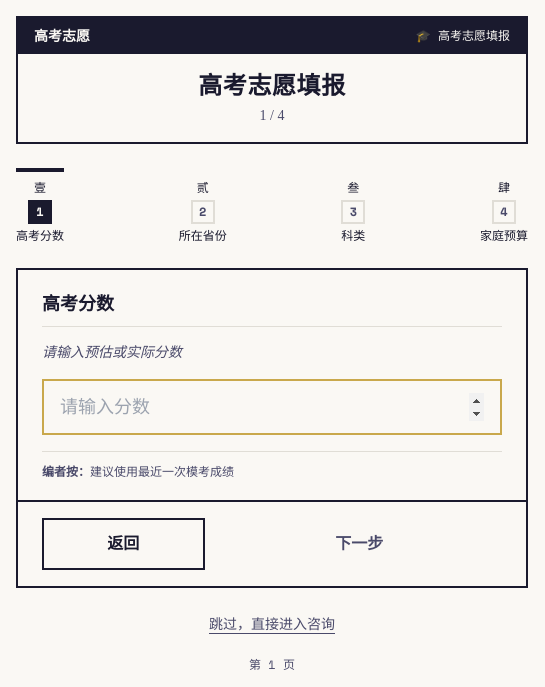
SoulQuestionForm › navigates back to previous step
Note: Go to step 2
Type "600" into the number field labelled "高考分数" at [272, 407], box [42, 379, 502, 435]
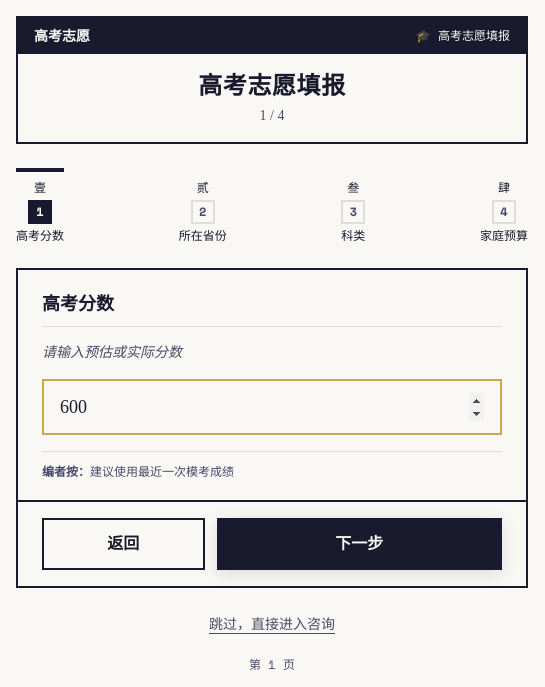
Click the button "下一步" at [359, 544], box [217, 518, 502, 570]
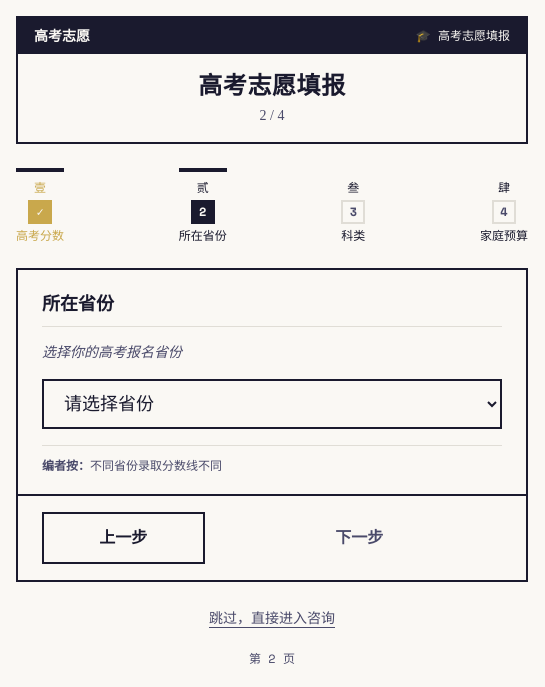
Check: the dropdown named "所在省份" is shown, box [42, 379, 502, 429]
Note:  Go back
Click the button "上一步" at [123, 538], box [42, 512, 205, 564]
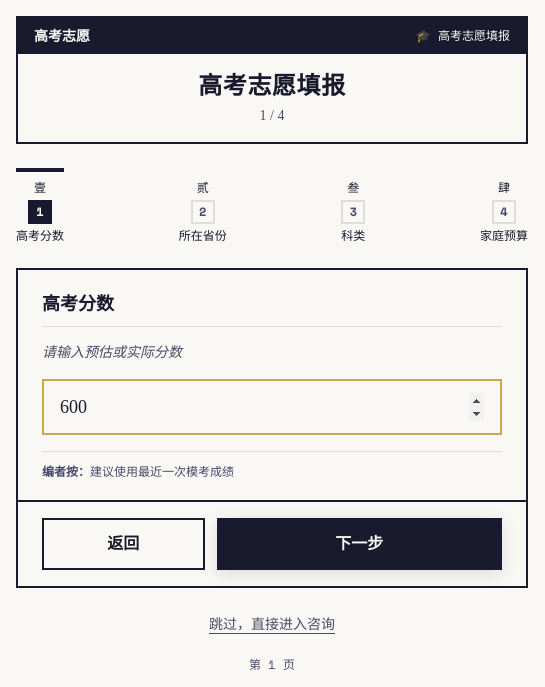
Check: the number field labelled "高考分数" is shown, box [42, 379, 502, 435]
